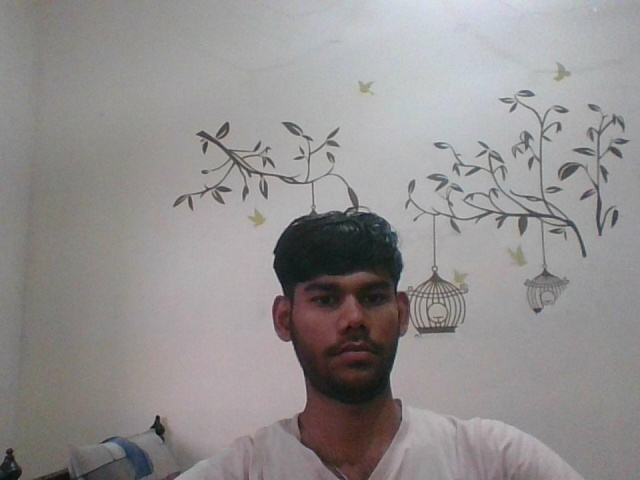I am Utkarsh: (150, 380, 589, 480)
